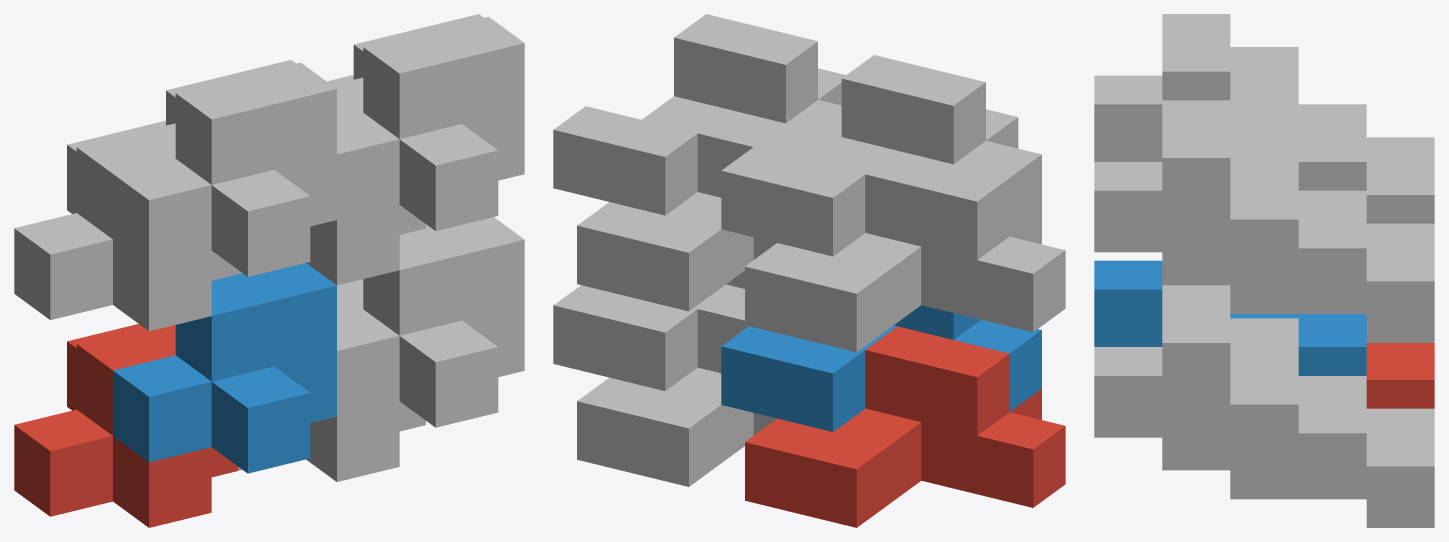
Rendered from tiling.obj.
3 renders of one model, left to right at view 1: azimuth 30°, elevation 25°; view 2: azimuth 150°, elevation 25°; view 3: azimuth 270°, elevation 25°, orthographic. The views are drawn at different scales.
Visible parts, largest first — view 1: copy_1_domain_4, copy_1_domain_2, copy_1_domain_8, copy_1_domain_6, copy_1_domain_3, copy_1_domain_1, copy_1_domain_7, copy_1_domain_5; view 2: copy_1_domain_1, copy_1_domain_3, copy_1_domain_4, copy_1_domain_8, copy_1_domain_7, copy_1_domain_5, copy_1_domain_2, copy_1_domain_6; view 3: copy_1_domain_8, copy_1_domain_6, copy_1_domain_4, copy_1_domain_5, copy_1_domain_7, copy_1_domain_2, copy_1_domain_3, copy_1_domain_1.
Part boxes in pixels (box(x1,y1,x2,y2)): copy_1_domain_4: box(113, 60, 336, 276); copy_1_domain_2: box(113, 263, 336, 473); copy_1_domain_8: box(337, 14, 524, 230); copy_1_domain_6: box(337, 217, 524, 427); copy_1_domain_3: box(14, 120, 238, 331); copy_1_domain_1: box(14, 324, 238, 527); copy_1_domain_7: box(238, 75, 425, 285); copy_1_domain_5: box(238, 279, 425, 481); copy_1_domain_1: box(745, 326, 1065, 527); copy_1_domain_3: box(745, 151, 1065, 352); copy_1_domain_4: box(721, 55, 1041, 256); copy_1_domain_8: box(553, 14, 845, 215); copy_1_domain_7: box(577, 110, 841, 311); copy_1_domain_5: box(577, 285, 776, 486); copy_1_domain_2: box(721, 305, 1041, 431); copy_1_domain_6: box(553, 270, 744, 390); copy_1_domain_8: box(1094, 100, 1366, 309); copy_1_domain_6: box(1094, 285, 1366, 494); copy_1_domain_4: box(1094, 14, 1366, 190); copy_1_domain_5: box(1162, 318, 1434, 527); copy_1_domain_7: box(1162, 133, 1434, 342); copy_1_domain_2: box(1094, 260, 1366, 375); copy_1_domain_3: box(1230, 47, 1434, 223); copy_1_domain_1: box(1366, 343, 1434, 408).
Size of the model in its own units: 8 by 6 by 5.
